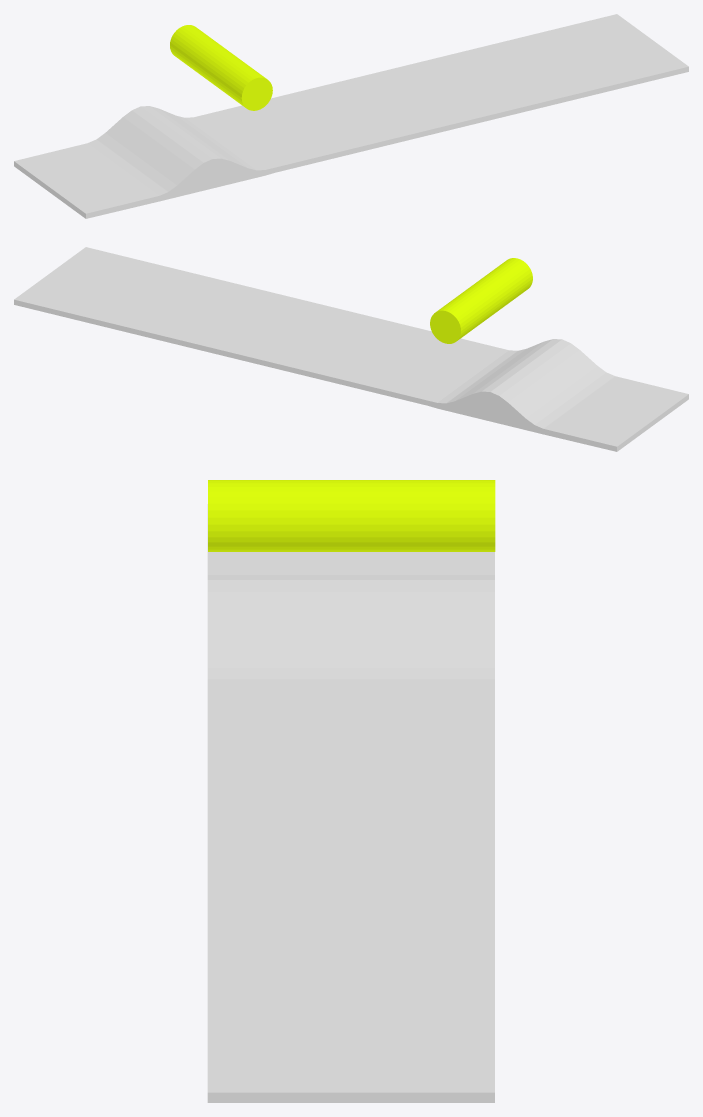
The model's file is level.gltf.
3 renders of one model, top to bottom at view 1: azimuth 30°, elevation 25°; view 2: azimuth 150°, elevation 25°; view 3: azimuth 270°, elevation 25°, orthographic. The views are drawn at different scales.
Visible parts, largest first — view 1: Cube, Cylinder; view 2: Cube, Cylinder; view 3: Cube, Cylinder.
Boxes of the visible parts, x1,y1,x2,y2 form: Cube: [14, 14, 688, 218]; Cylinder: [170, 25, 272, 110]; Cube: [14, 247, 688, 451]; Cylinder: [430, 258, 532, 343]; Cube: [207, 504, 494, 1102]; Cylinder: [208, 480, 495, 551].
Size of the model in its own units: 484 by 76.46 by 100.
